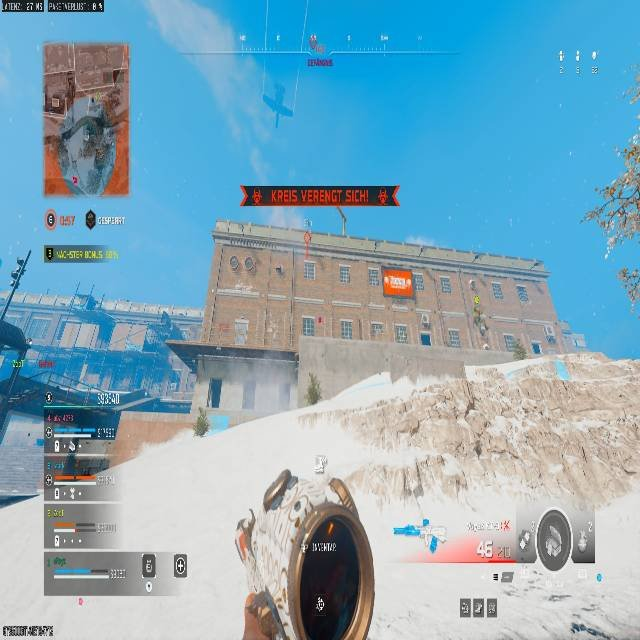player: (255, 62, 294, 129), (472, 306, 487, 337)
